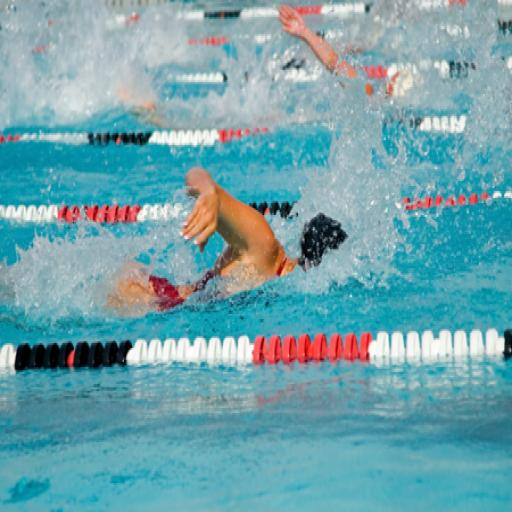swimming: (102, 164, 350, 319)
